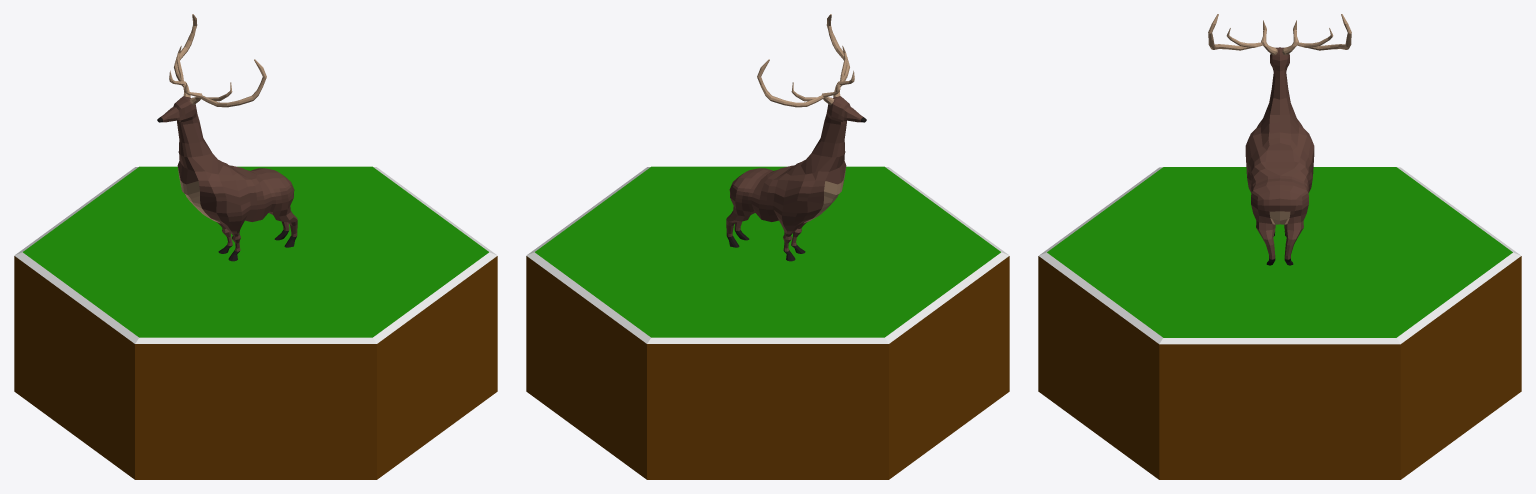
The model's file is altigen_blok_geyik.fbx.
3 renders of one model, left to right at view 1: azimuth 30°, elevation 25°; view 2: azimuth 150°, elevation 25°; view 3: azimuth 270°, elevation 25°, orthographic.
Visible parts, largest first — view 1: ground.001, deer; view 2: ground.001, deer; view 3: ground.001, deer.
Boxes of the visible parts, <box> form: ground.001: <box>14,166,497,479</box>; deer: <box>157,14,297,261</box>; ground.001: <box>526,166,1009,479</box>; deer: <box>726,14,866,261</box>; ground.001: <box>1038,167,1521,479</box>; deer: <box>1208,14,1351,265</box>.
Size of the model in its own units: 1.73 by 1.65 by 2.
